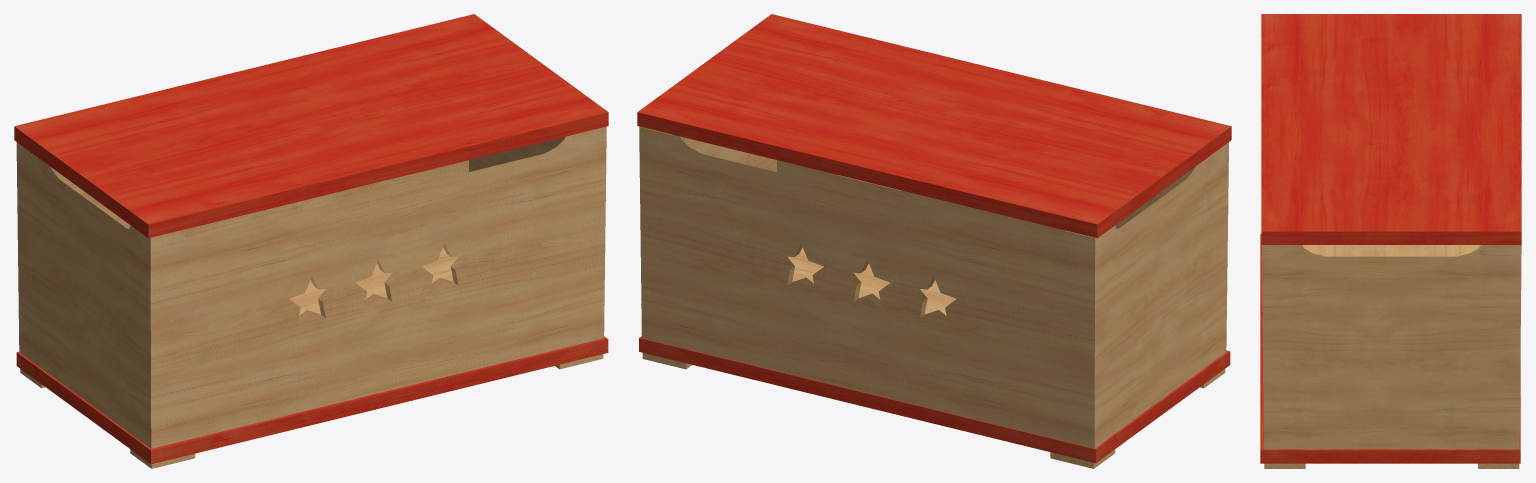
File: Chest.FBX
3 views of the same model, side by side, from view 1: azimuth 30°, elevation 25°; view 2: azimuth 150°, elevation 25°; view 3: azimuth 270°, elevation 25° (orthographic). The views are drawn at different scales.
Visible parts, largest first — view 1: chest; view 2: chest; view 3: chest.
Boxes of the visible parts, box(x1,y1,x2,y2) form: chest: box(14, 14, 608, 468); chest: box(637, 14, 1231, 468); chest: box(1260, 14, 1521, 468).
Bounding box in the file's own units: 87.46 × 44.79 × 44.39.
2 materials, 2 textured.
